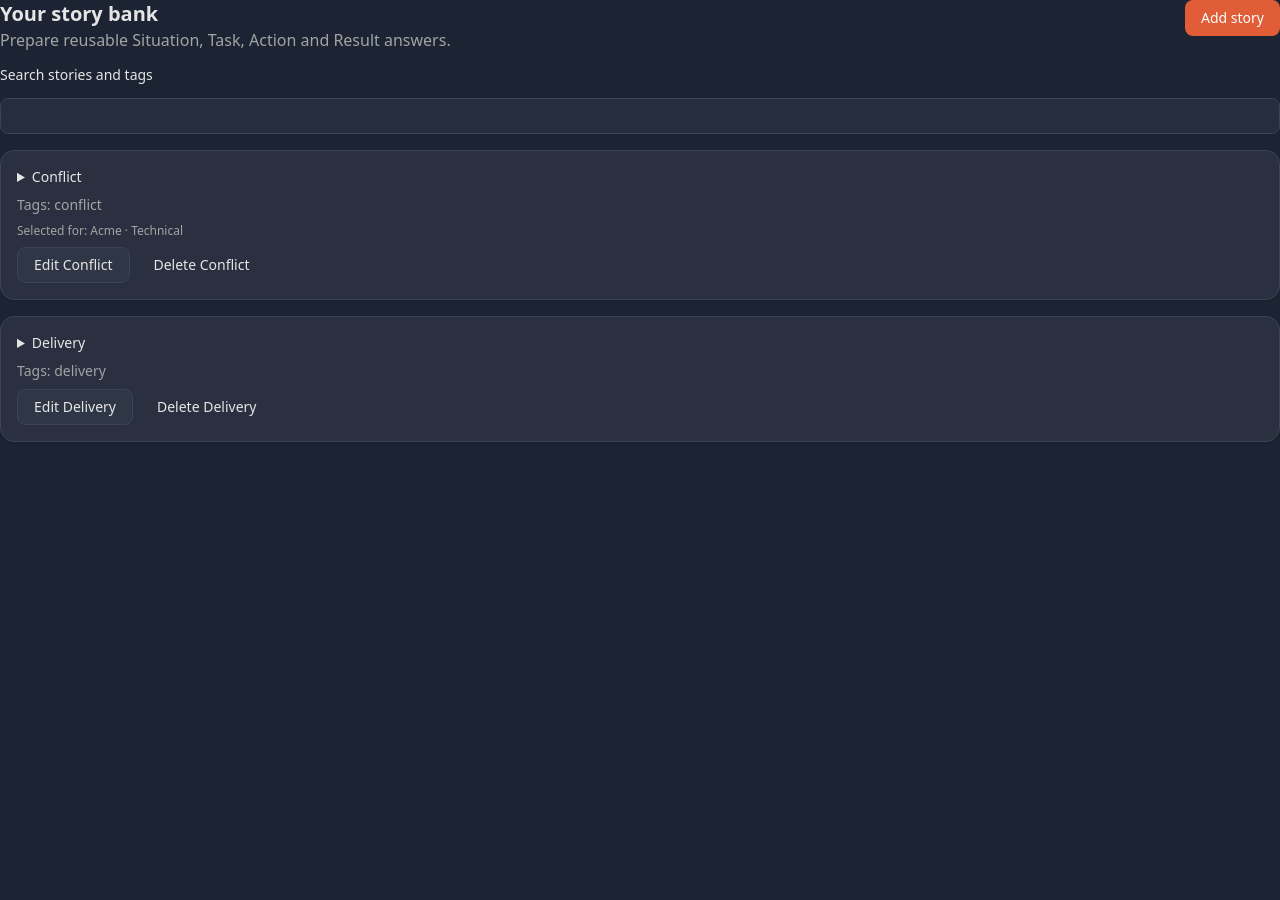
Test: story bank UI › edits a reusable story and preserves its links
The width and height of the screenshot is (1280, 900).
Click the button "Edit Conflict" at (73, 265), box x1=17 y1=247 x2=130 y2=283
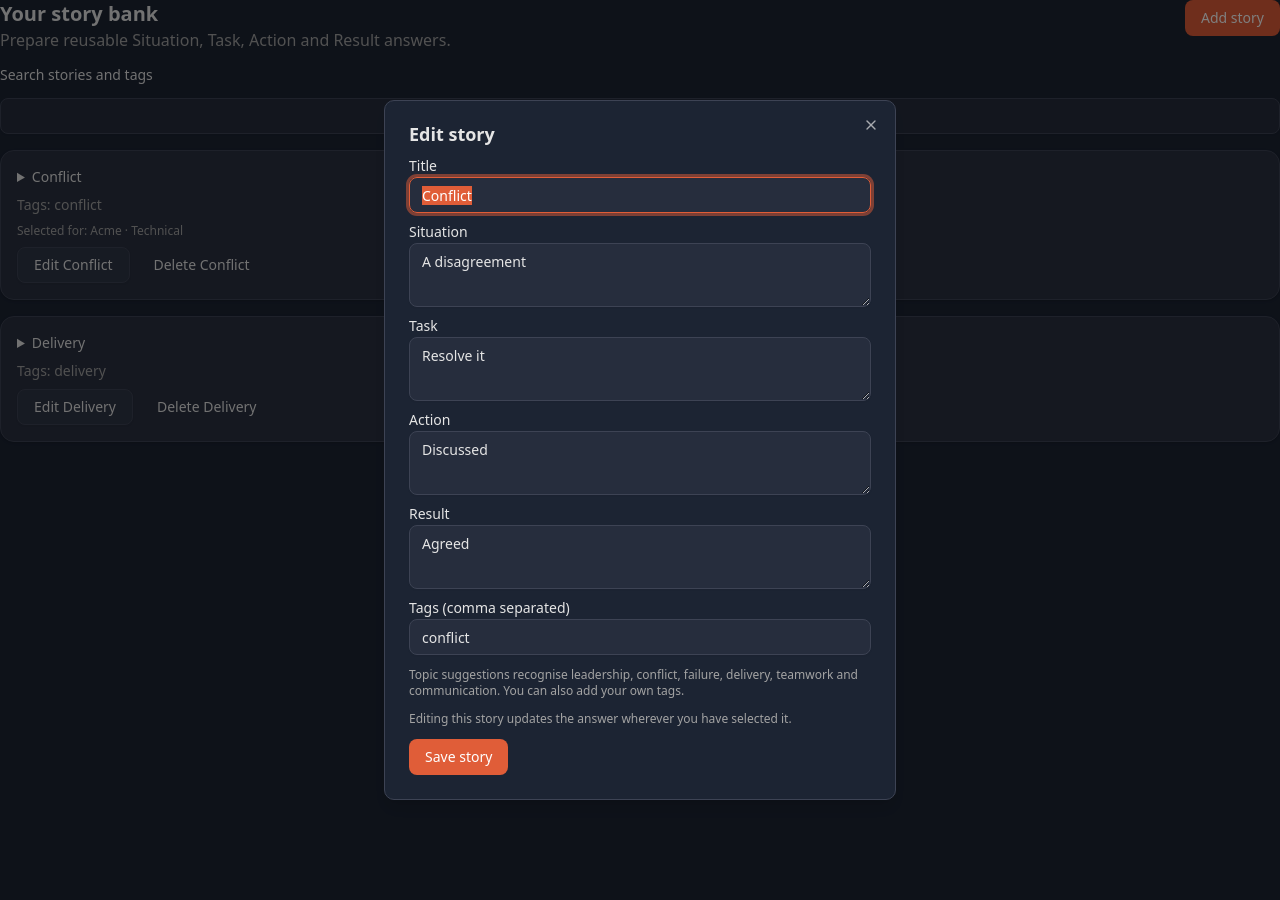
Result: the text "updates the answer wherever" is shown at x1=409 y1=710 x2=792 y2=727
Replace the text in the text box labelled "action" with "Listened first" at (640, 463), box x1=409 y1=431 x2=871 y2=495
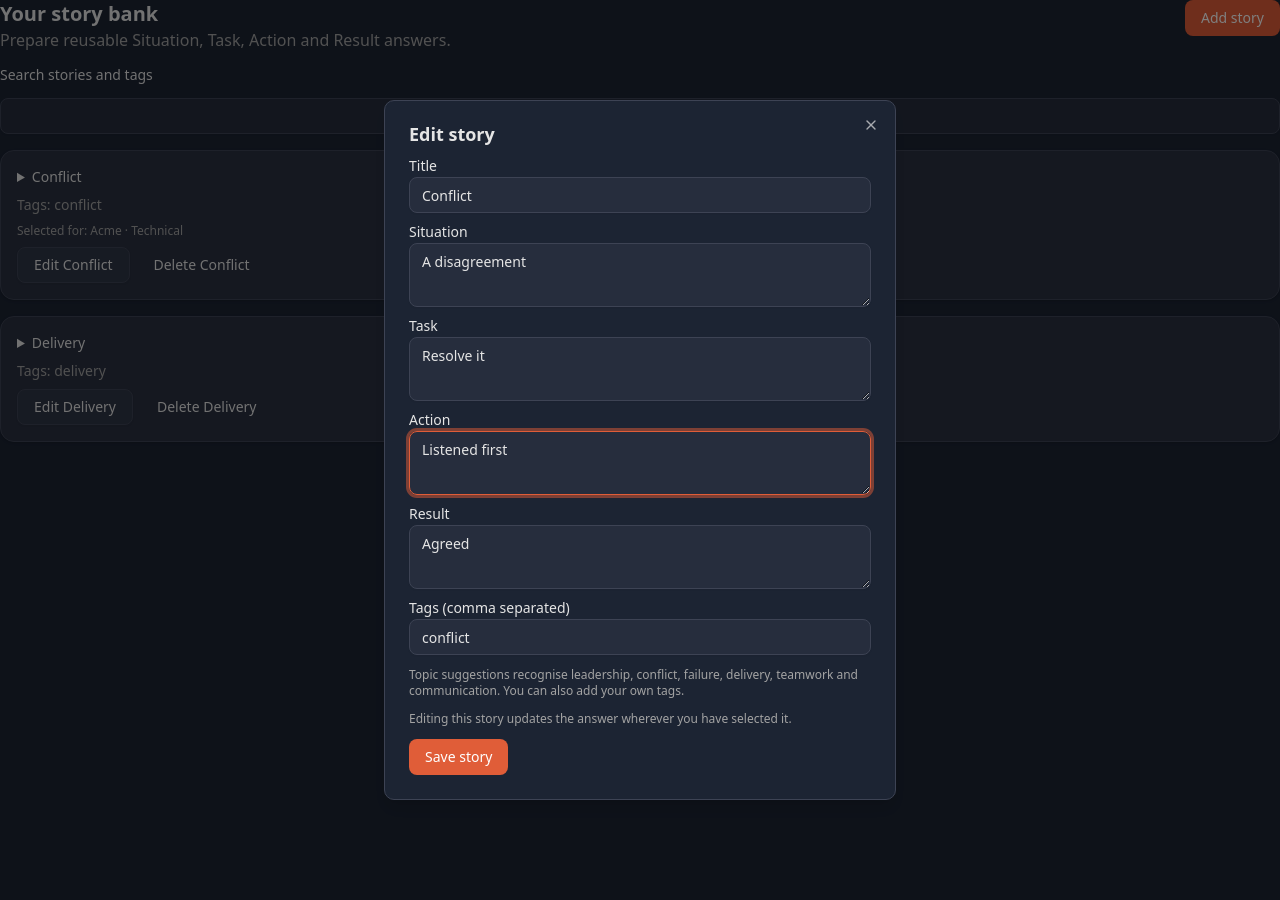
Click the button "Save story" at (459, 757), box x1=409 y1=739 x2=508 y2=775
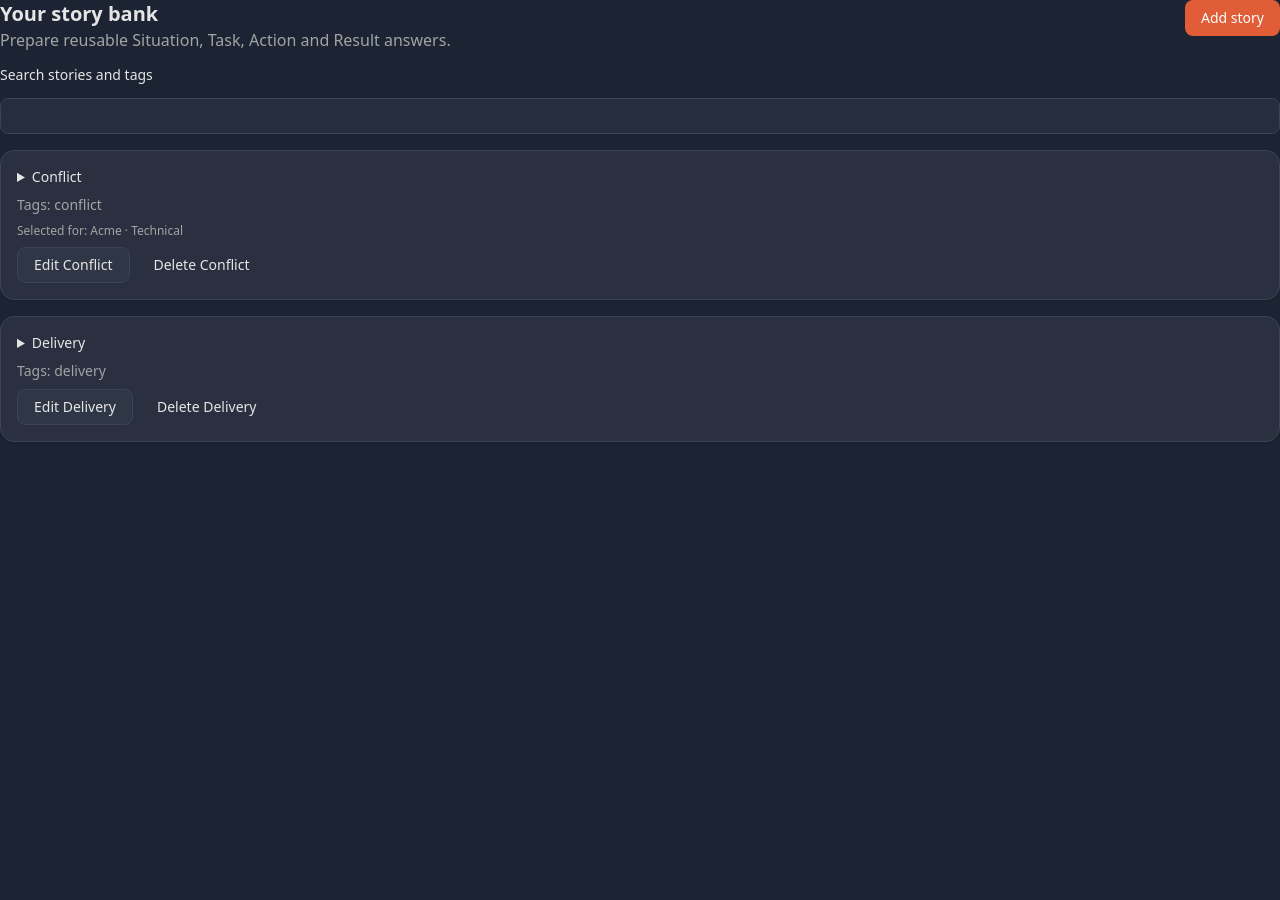
Result: the dialog is gone
